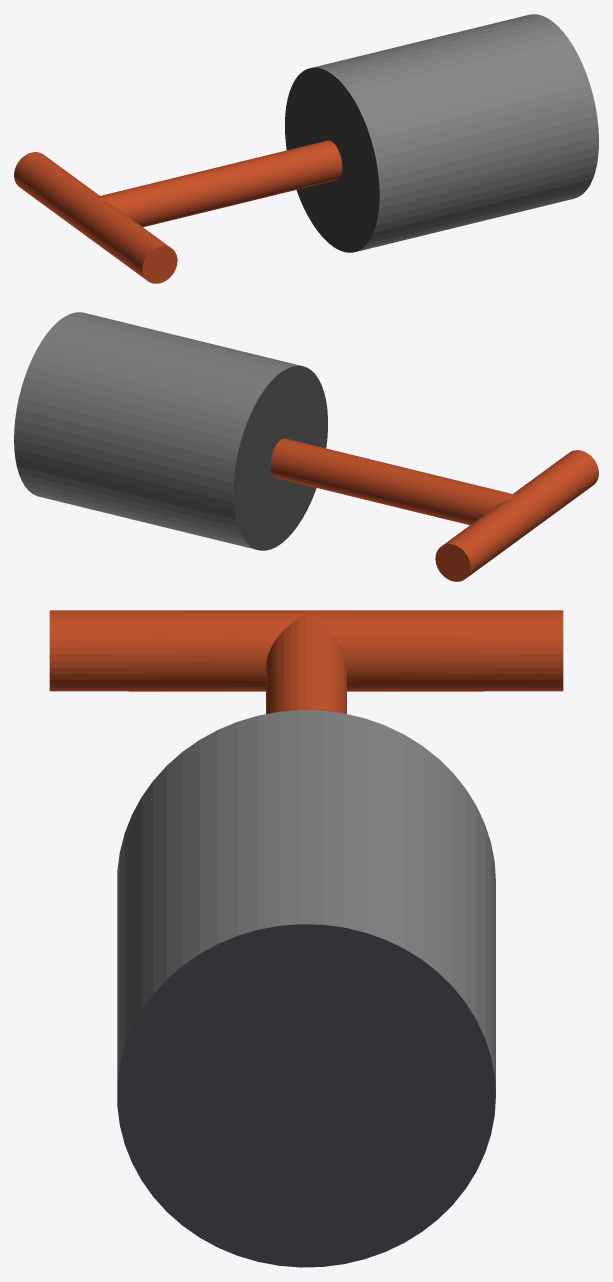
The model's file is TorqueTool.dae.
The picture shows the model from 3 angles, top to bottom: view 1: azimuth 30°, elevation 25°; view 2: azimuth 150°, elevation 25°; view 3: azimuth 270°, elevation 25°; orthographic projection. The views are drawn at different scales.
Parts seen in each view (by area): view 1: ShapeIndexedFaceSet, ShapeIndexedFaceSet_003, ShapeIndexedFaceSet_001; view 2: ShapeIndexedFaceSet, ShapeIndexedFaceSet_003, ShapeIndexedFaceSet_001; view 3: ShapeIndexedFaceSet_002, ShapeIndexedFaceSet, ShapeIndexedFaceSet_003.
Boxes of the visible parts, x1,y1,x2,y2 form: ShapeIndexedFaceSet: (313,14,598,251); ShapeIndexedFaceSet_003: (14,140,342,283); ShapeIndexedFaceSet_001: (285,67,379,252); ShapeIndexedFaceSet: (14,312,301,549); ShapeIndexedFaceSet_003: (270,438,598,581); ShapeIndexedFaceSet_001: (233,365,327,550); ShapeIndexedFaceSet_002: (117,924,495,1267); ShapeIndexedFaceSet: (117,710,495,1092); ShapeIndexedFaceSet_003: (49,610,563,713).
Size of the model in its own units: 0.2555 by 0.12 by 0.0885.
